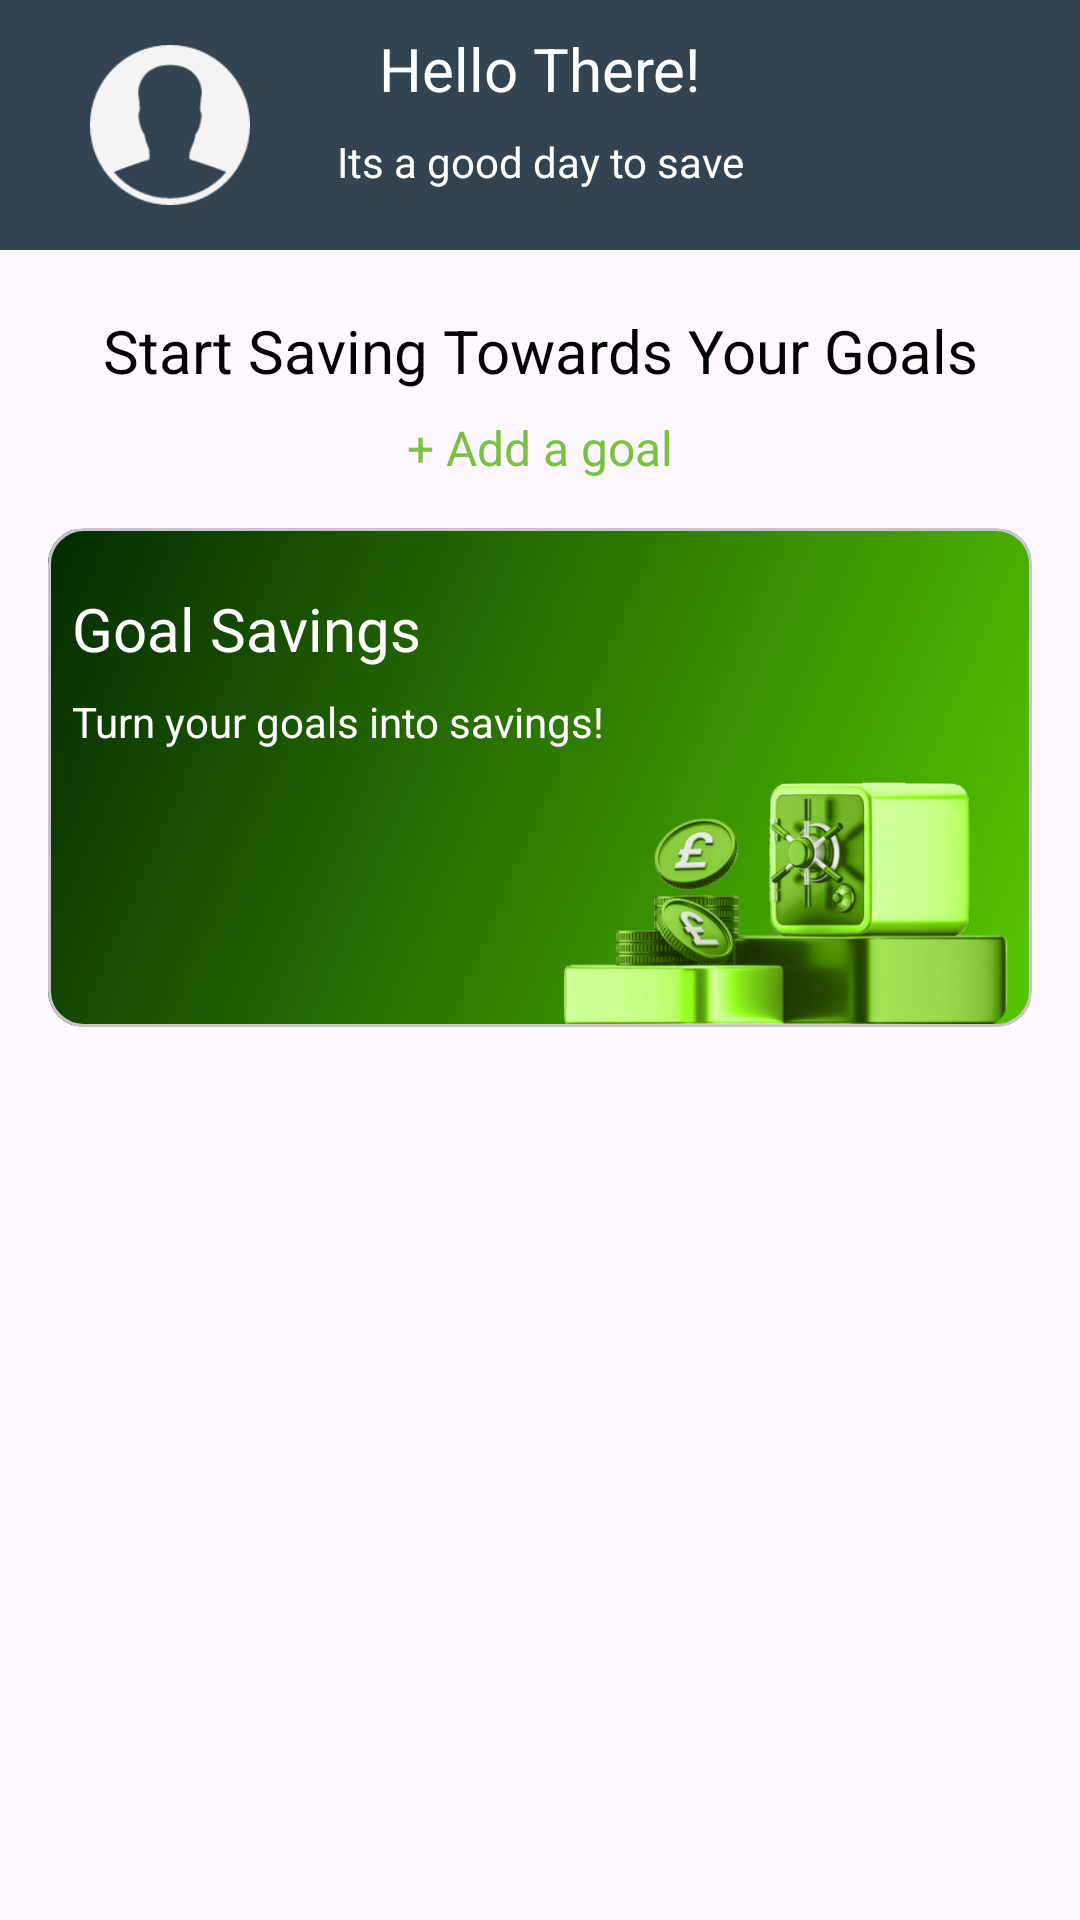

Locate icon controls on the screen. Image size 1080px x 1920px, boxes as (x1, y1, x2, y2).
user profile: (90, 45, 250, 205)
